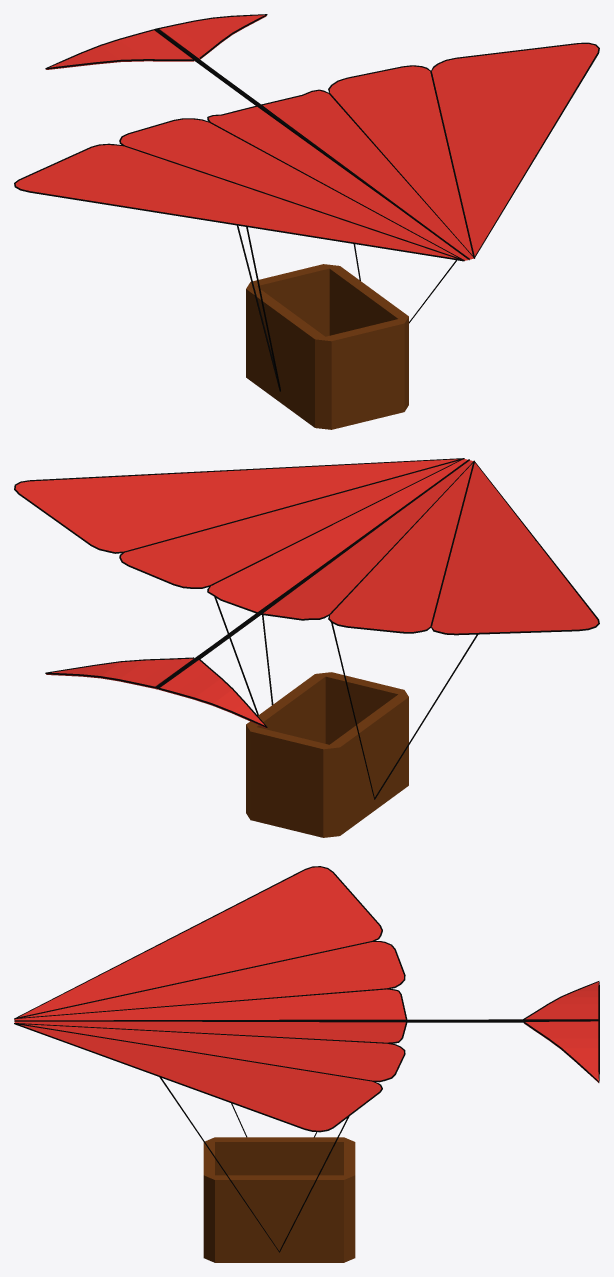
3 renders of one model, top to bottom at view 1: azimuth 30°, elevation 25°; view 2: azimuth 150°, elevation 25°; view 3: azimuth 270°, elevation 25°, orthographic. The views are drawn at different scales.
Parts seen in each view (by area): view 1: Cube, Tail, Line, Cube.002, Cube.001, Tail.001; view 2: Cube, Tail, Line, Cube.002, Cube.001, Tail.001; view 3: Cube, Line, Tail, Cube.002, Cube.001, Tail.001.
Boxes of the visible parts, <box> form: Cube: <box>15,29,598,429</box>; Tail: <box>46,15,266,69</box>; Line: <box>29,52,598,261</box>; Cube.002: <box>14,42,599,192</box>; Cube.001: <box>236,155,535,391</box>; Tail.001: <box>45,14,267,69</box>; Cube: <box>15,459,597,837</box>; Tail: <box>46,658,266,728</box>; Line: <box>30,458,598,626</box>; Cube.002: <box>14,480,599,635</box>; Cube.001: <box>214,470,535,799</box>; Tail.001: <box>45,657,267,727</box>; Cube: <box>14,867,598,1262</box>; Line: <box>14,869,386,1129</box>; Tail: <box>524,982,598,1082</box>; Cube.002: <box>304,866,407,1132</box>; Cube.001: <box>159,944,349,1252</box>; Tail.001: <box>523,981,599,1082</box>.
Bounding box in the file's own units: 1595 × 681 × 1489.
